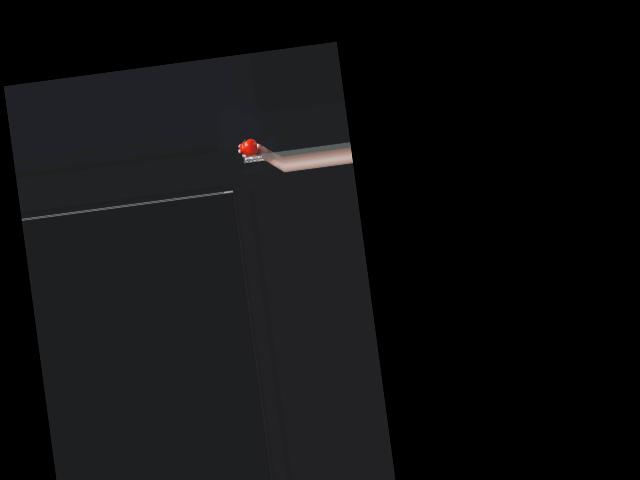tomato: (238, 137, 258, 157)
